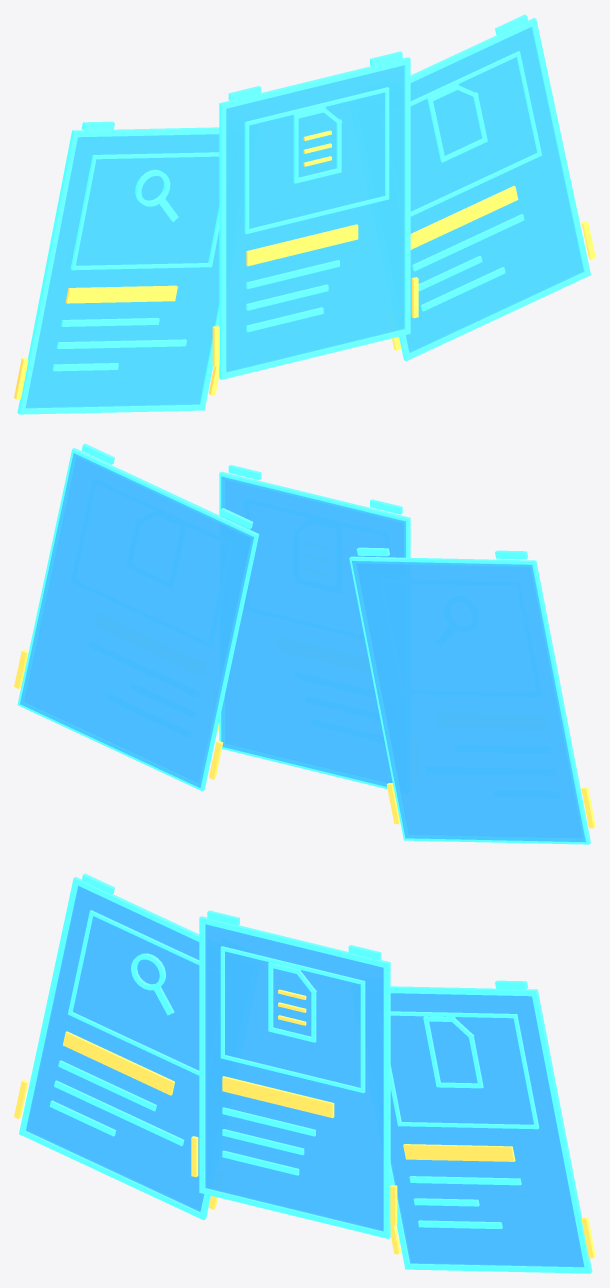
The model's file is holo_cards.glb.
3 views of the same model, one above another, from view 1: azimuth 30°, elevation 25°; view 2: azimuth 150°, elevation 25°; view 3: azimuth 330°, elevation 25° (orthographic).
Visible parts, largest first — view 1: holo_cards; view 2: holo_cards; view 3: holo_cards.
Boxes of the visible parts, <box> form: holo_cards: <box>14,14,595,414</box>; holo_cards: <box>14,443,595,844</box>; holo_cards: <box>14,873,595,1273</box>.
Bounding box in the file's own units: 0.9438 × 0.4983 × 0.044.
